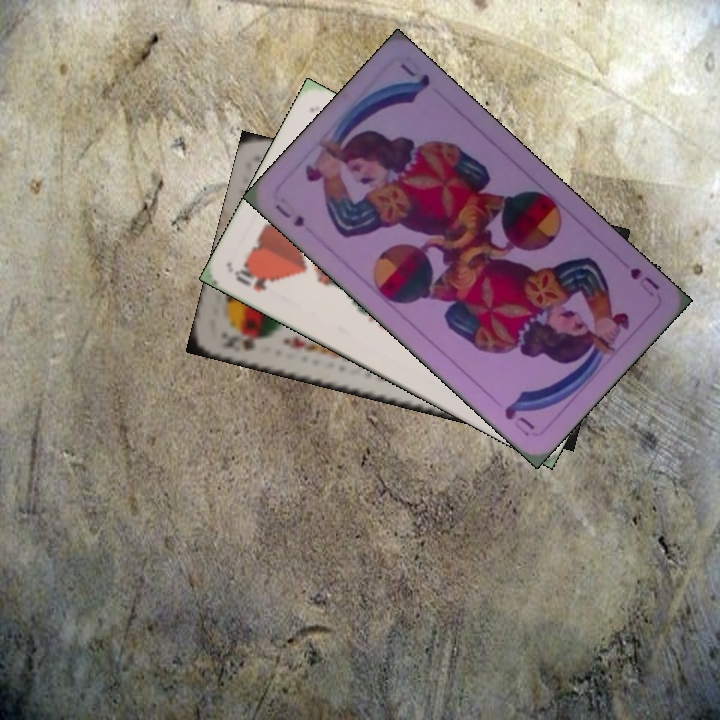HO: (230, 262, 277, 295)
SK: (226, 333, 268, 355)
SU: (271, 199, 308, 230), (626, 263, 663, 293)
